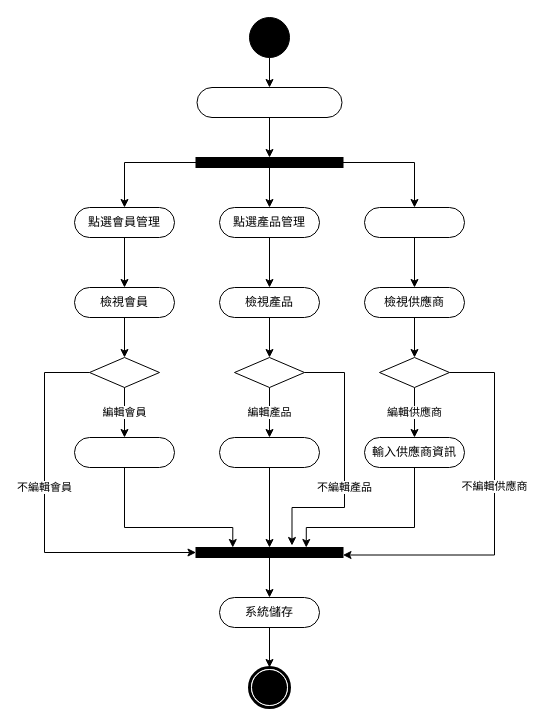
The diagram is 545 pixels wide and 725 high, and some of its shapes have lost their labels. The box of each missing label's shape, as (x1, y1, x2, y2) in pixels:
輸入會員資訊: (74, 436, 174, 468)
輸入產品資訊: (218, 436, 320, 468)
點選供應商管理: (364, 206, 464, 238)
點選會員/產品/供應商管理: (196, 86, 342, 118)
